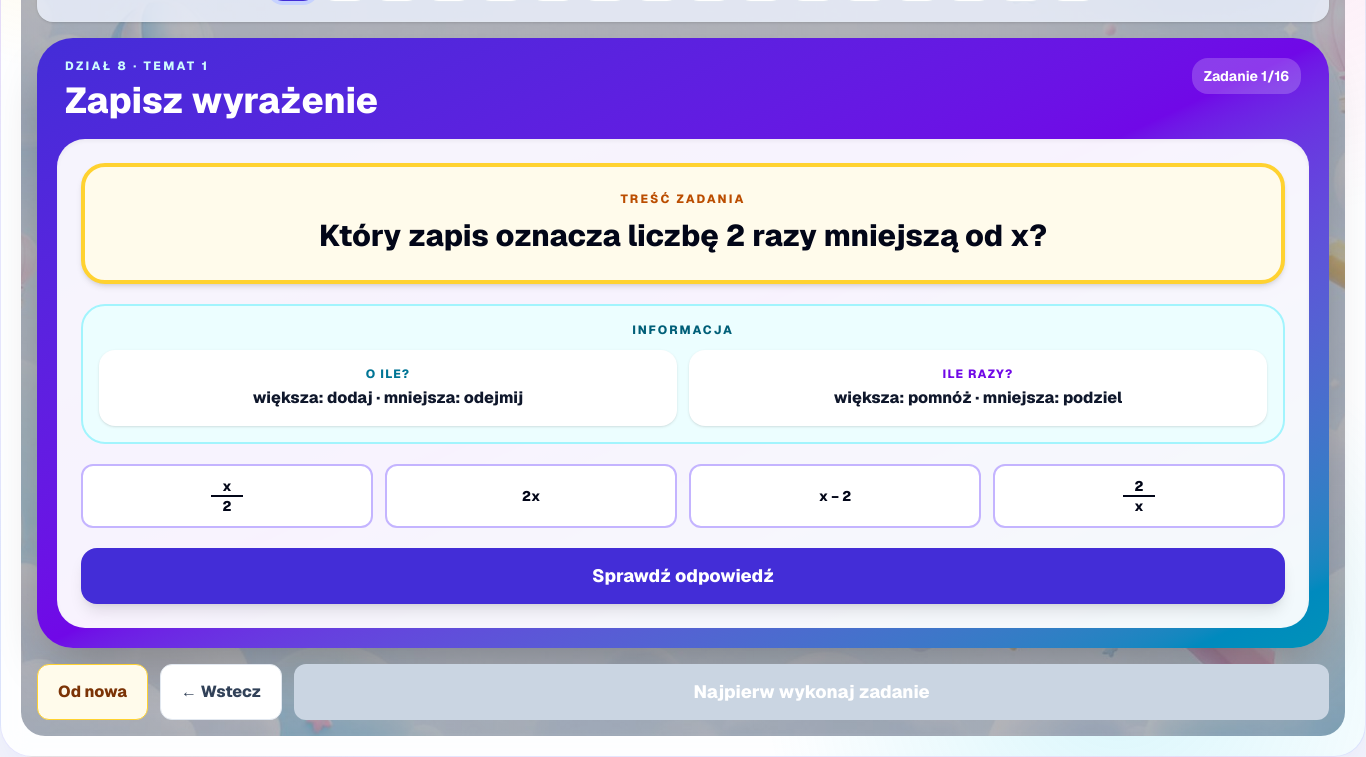
it: Dział 8 — kanały tablicy i ucznia live › w pracy własnej zachowuje ten sam slajd, licznik i przejście bez punktu
(page scrolled)
Expected: the text "Zadanie 1/16" is shown once, x1=1192 y1=58 x2=1301 y2=94
Expected: the button "Najpierw wykonaj zadanie" is disabled, x1=294 y1=664 x2=1329 y2=720
Click the button "2x": [531, 496] box x1=385 y1=464 x2=677 y2=528
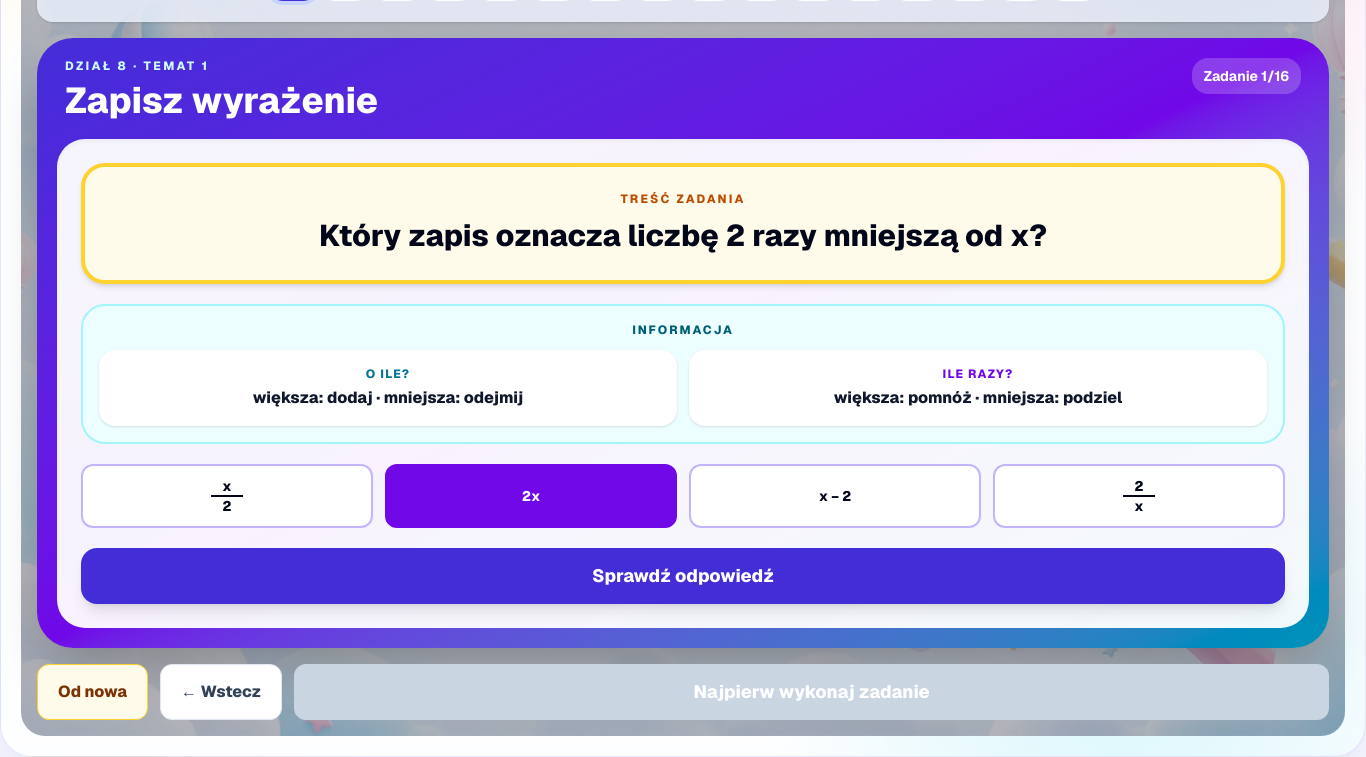
Click the button "Sprawdź odpowiedź": [683, 576] box x1=81 y1=548 x2=1285 y2=604
(page scrolled)
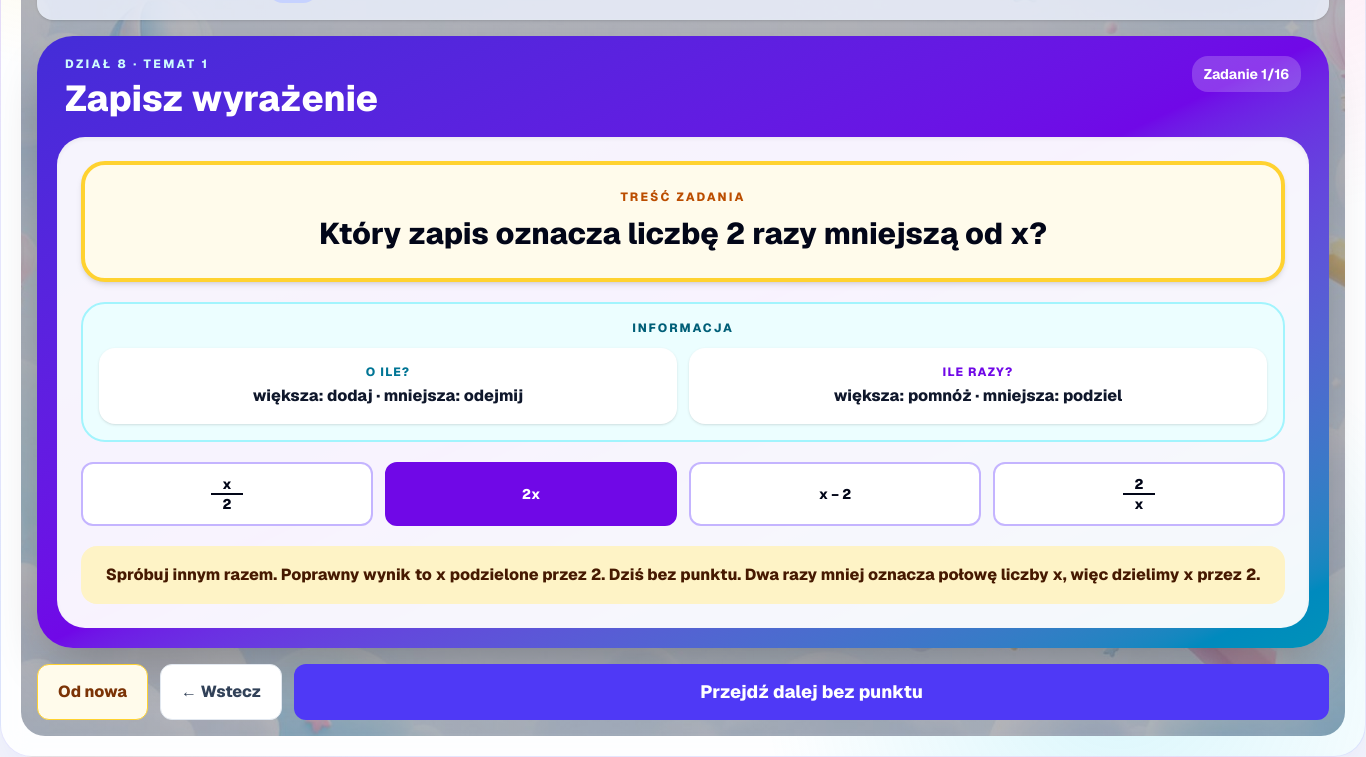
Expected: the button "Przejdź dalej bez punktu" is enabled, x1=294 y1=664 x2=1329 y2=720
